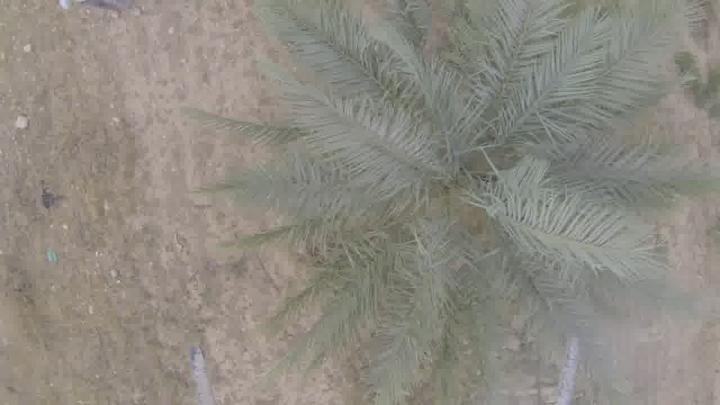Date-Palm-Crown: (320, 31, 616, 335)
